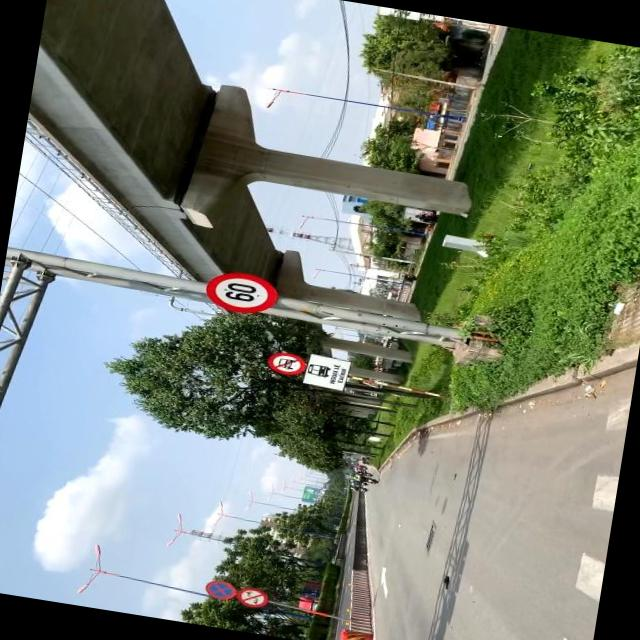P-127: (203, 268, 279, 319)
P-130: (204, 578, 238, 602)
